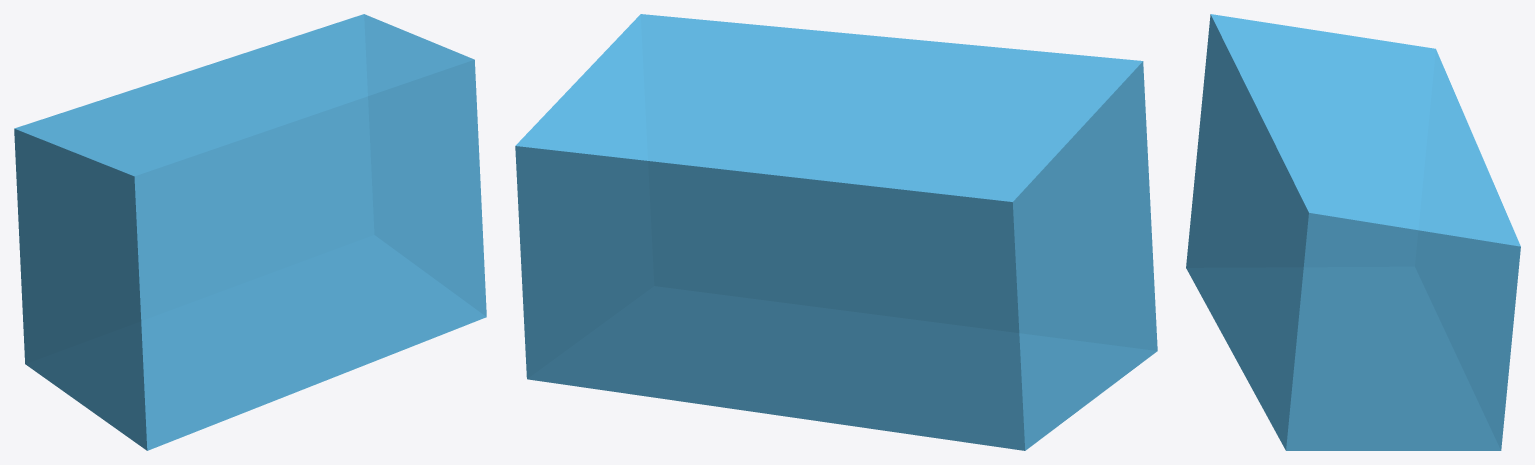
Rendered from Event_421278790_HErechit_2.fbx.
The picture shows the model from 3 angles, left to right: view 1: azimuth 30°, elevation 25°; view 2: azimuth 150°, elevation 25°; view 3: azimuth 270°, elevation 25°; orthographic projection. The views are drawn at different scales.
Visible parts, largest first — view 1: Model; view 2: Model; view 3: Model.
Boxes of the visible parts, left/top/right/bottom form: Model: left=14, top=14, right=486, bottom=450; Model: left=515, top=14, right=1157, bottom=450; Model: left=1186, top=14, right=1520, bottom=450.
Bounding box in the file's own units: 0.6767 × 0.4348 × 0.5198.
